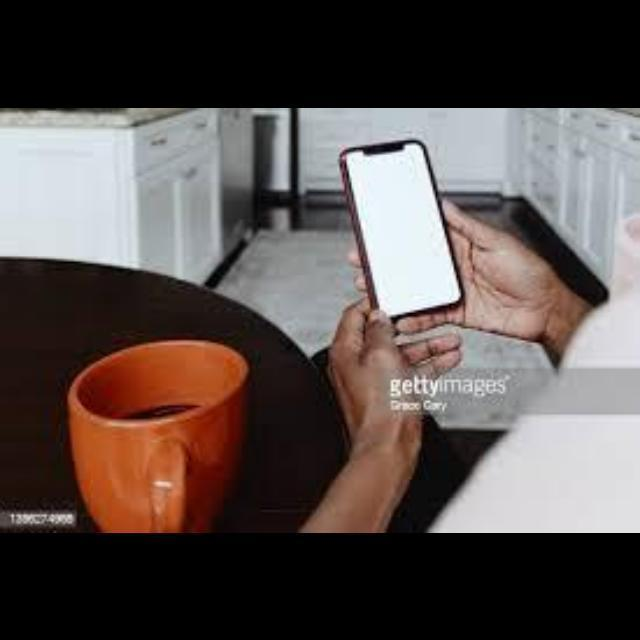PhoneUse: (340, 138, 466, 314)
